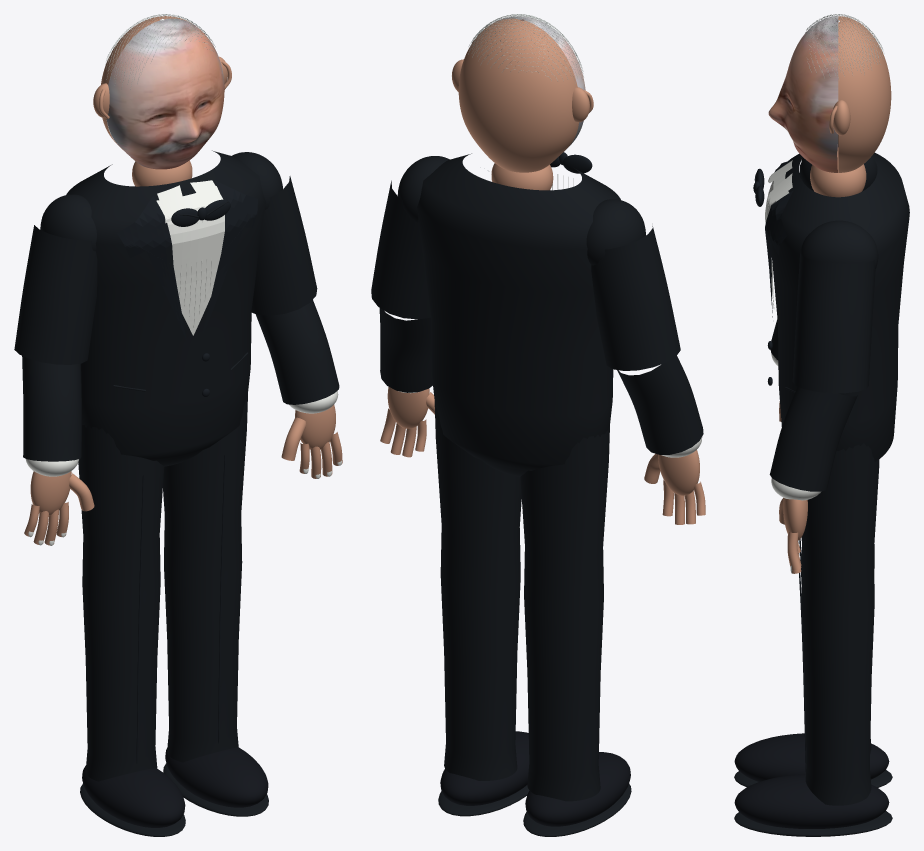
The model's file is Yakubovich_Tuxedo_v1.glb.
The picture shows the model from 3 angles, left to right: view 1: azimuth 30°, elevation 25°; view 2: azimuth 150°, elevation 25°; view 3: azimuth 270°, elevation 25°; orthographic projection. The views are drawn at different scales.
Visible parts, largest first — view 1: Fitted tuxedo jacket, Tailored trouser -1, Tailored trouser 1, Portrait facial surface, Jacket sleeve upper -1, Jacket sleeve upper 1, Jacket sleeve forearm -1, Jacket sleeve forearm 1, White shirt inset, Leather shoe -1, Leather shoe 1, Fitted satin lapel -1 (+15 smaller); view 2: Fitted tuxedo jacket, Tailored trouser -1, Tailored trouser 1, Cranial back surface, Jacket sleeve upper -1, Jacket sleeve upper 1, Jacket sleeve forearm -1, Jacket sleeve forearm 1, Leather shoe -1, Leather shoe 1, Rounded shoulder -1, Silver hair strand combined (+7 smaller); view 3: Tailored trouser 1, Fitted tuxedo jacket, Jacket sleeve upper 1, Portrait facial surface, Cranial back surface, Jacket sleeve forearm 1, Leather shoe 1, Leather shoe -1, Rounded shoulder 1, Shoe sole 1, Silver hair strand combined, Neck (+9 smaller).
Boxes of the visible parts, left/top/right/bottom form: Fitted tuxedo jacket: left=66, top=150, right=265, bottom=460; Tailored trouser -1: left=78, top=425, right=164, bottom=781; Tailored trouser 1: left=163, top=393, right=247, bottom=762; Portrait facial surface: left=106, top=18, right=224, bottom=169; Jacket sleeve upper -1: left=14, top=225, right=97, bottom=364; Jacket sleeve upper 1: left=251, top=176, right=317, bottom=315; Jacket sleeve forearm -1: left=22, top=356, right=81, bottom=461; Jacket sleeve forearm 1: left=256, top=300, right=339, bottom=404; White shirt inset: left=156, top=186, right=224, bottom=335; Leather shoe -1: left=82, top=765, right=185, bottom=827; Leather shoe 1: left=165, top=747, right=268, bottom=807; Fitted satin lapel -1: left=117, top=196, right=186, bottom=341; Fitted tuxedo jacket: left=417, top=153, right=620, bottom=470; Tailored trouser -1: left=520, top=426, right=609, bottom=801; Tailored trouser 1: left=434, top=401, right=521, bottom=780; Cranial back surface: left=458, top=18, right=578, bottom=172; Jacket sleeve upper -1: left=591, top=226, right=680, bottom=370; Jacket sleeve upper 1: left=371, top=180, right=430, bottom=319; Jacket sleeve forearm -1: left=617, top=356, right=703, bottom=454; Jacket sleeve forearm 1: left=379, top=308, right=432, bottom=392; Leather shoe -1: left=525, top=752, right=630, bottom=826; Leather shoe 1: left=440, top=731, right=529, bottom=805; Rounded shoulder -1: left=586, top=199, right=645, bottom=265; Silver hair strand combined: left=468, top=14, right=583, bottom=83; Tailored trouser 1: left=801, top=443, right=879, bottom=805; Fitted tuxedo jacket: left=771, top=152, right=909, bottom=461; Jacket sleeve upper 1: left=792, top=253, right=875, bottom=393; Portrait facial surface: left=768, top=16, right=838, bottom=172; Cranial back surface: left=838, top=16, right=891, bottom=172; Jacket sleeve forearm 1: left=769, top=387, right=857, bottom=491; Leather shoe 1: left=734, top=774, right=889, bottom=828; Leather shoe -1: left=734, top=733, right=889, bottom=781; Rounded shoulder 1: left=800, top=220, right=878, bottom=268; Shoe sole 1: left=734, top=811, right=892, bottom=836; Silver hair strand combined: left=805, top=14, right=884, bottom=78; Neck: left=810, top=147, right=866, bottom=197.
Bounding box in the file's own units: 0.7476 × 1.75 × 0.3546.
Materials: 7 (1 with a texture image).
